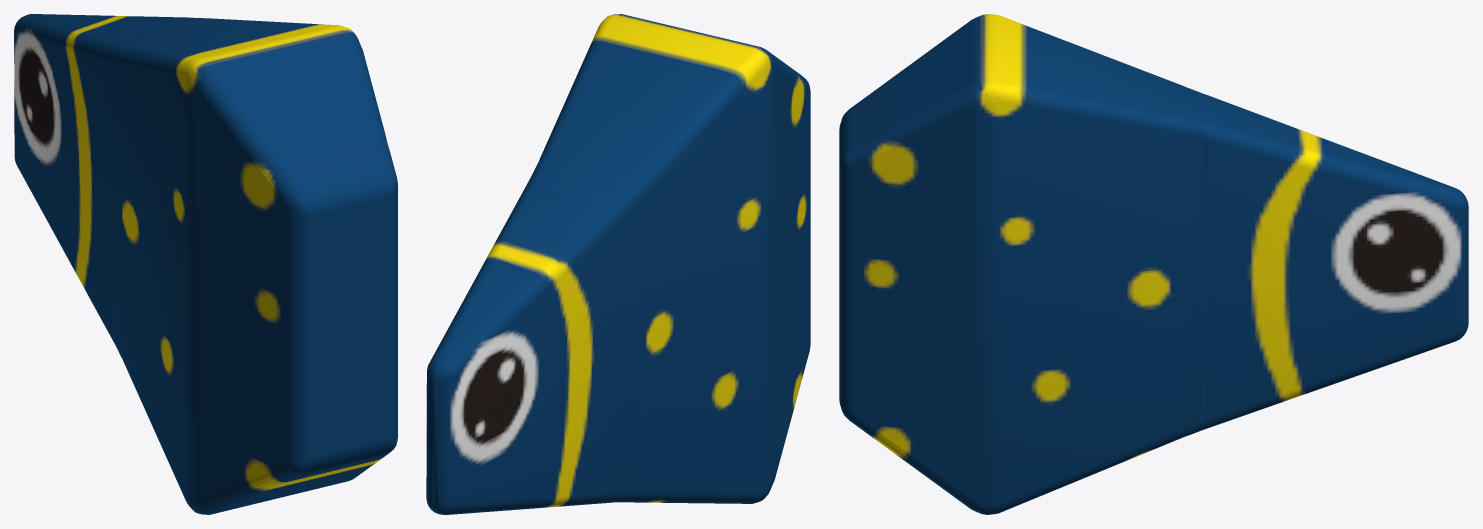
File: Fish9_1_new.dae
3 views of the same model, side by side, from view 1: azimuth 30°, elevation 25°; view 2: azimuth 150°, elevation 25°; view 3: azimuth 270°, elevation 25° (orthographic). The views are drawn at different scales.
Visible parts, largest first — view 1: Cube_Cube_001; view 2: Cube_Cube_001; view 3: Cube_Cube_001.
Part boxes in pixels (x1,y1,x2,y2): Cube_Cube_001: [14, 14, 397, 514]; Cube_Cube_001: [426, 14, 810, 514]; Cube_Cube_001: [839, 14, 1468, 514].
Bounding box in the file's own units: 2.91 × 9.95 × 7.57.
1 material, 1 textured.
